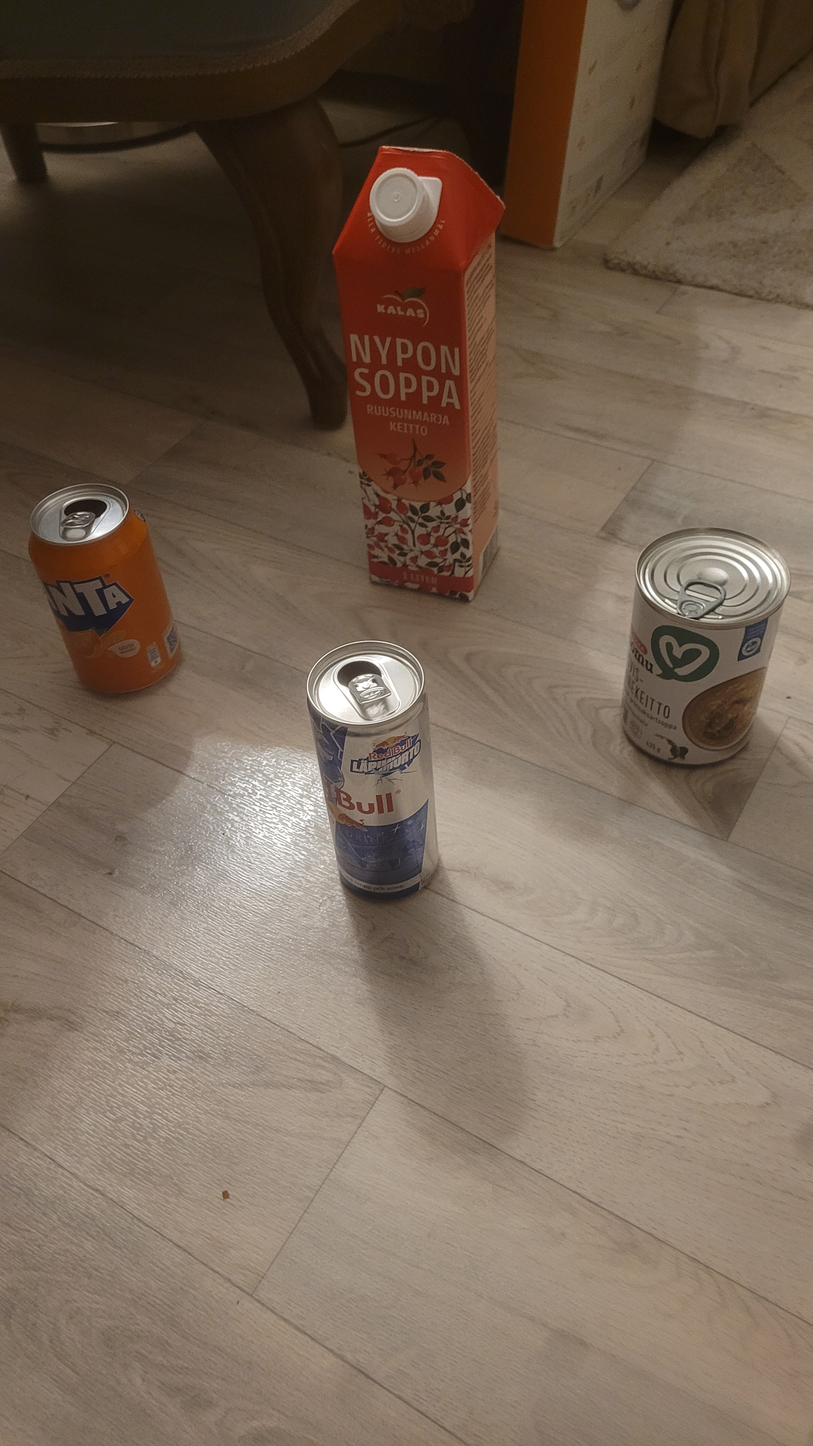Dryckeskartong: (333, 146, 508, 603)
Konservburk: (618, 526, 789, 771)
Pantburk: (304, 640, 439, 902), (29, 485, 185, 696)
